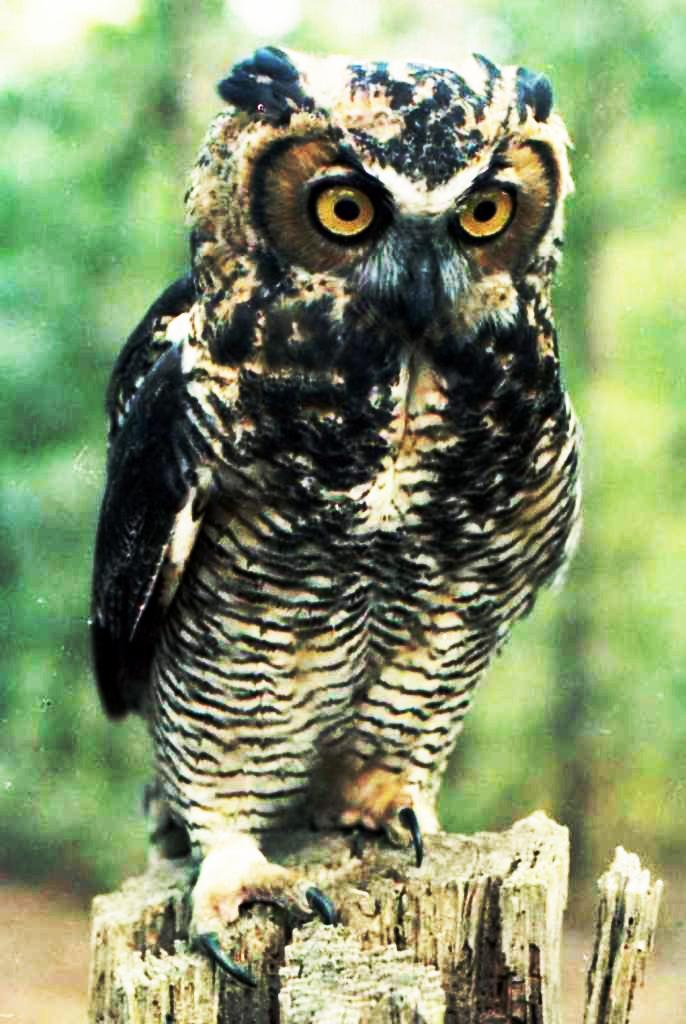Owl: (88, 40, 586, 990)
